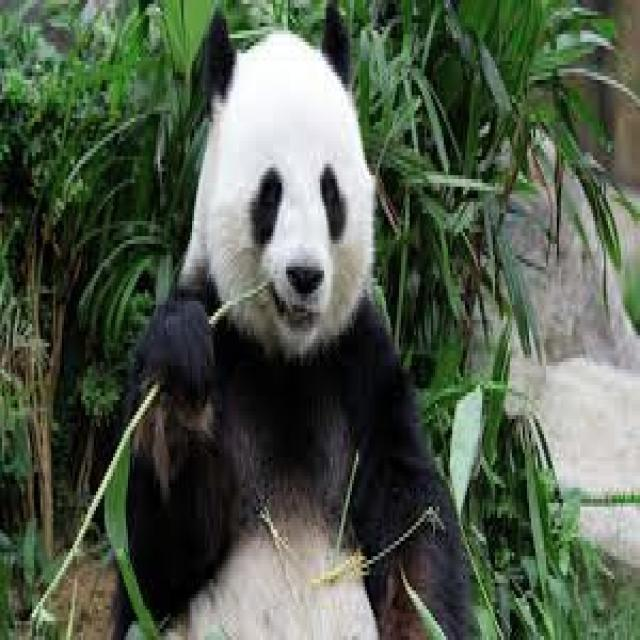panda: (128, 8, 469, 636)
